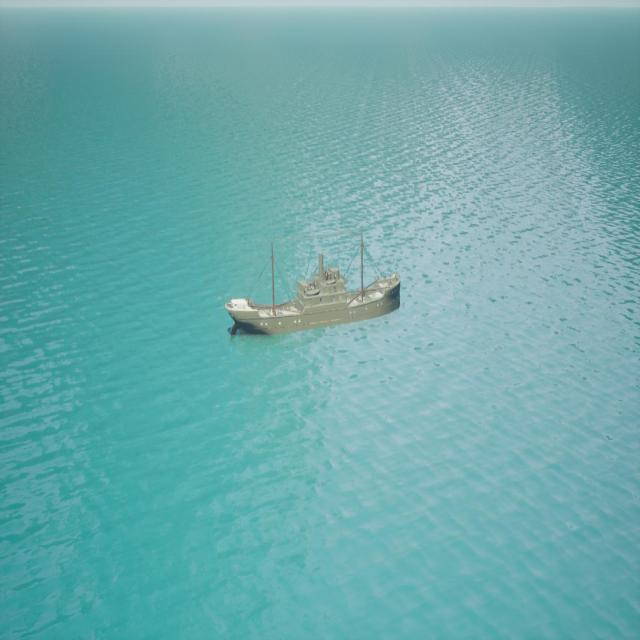fishing ship: (227, 236, 402, 341)
